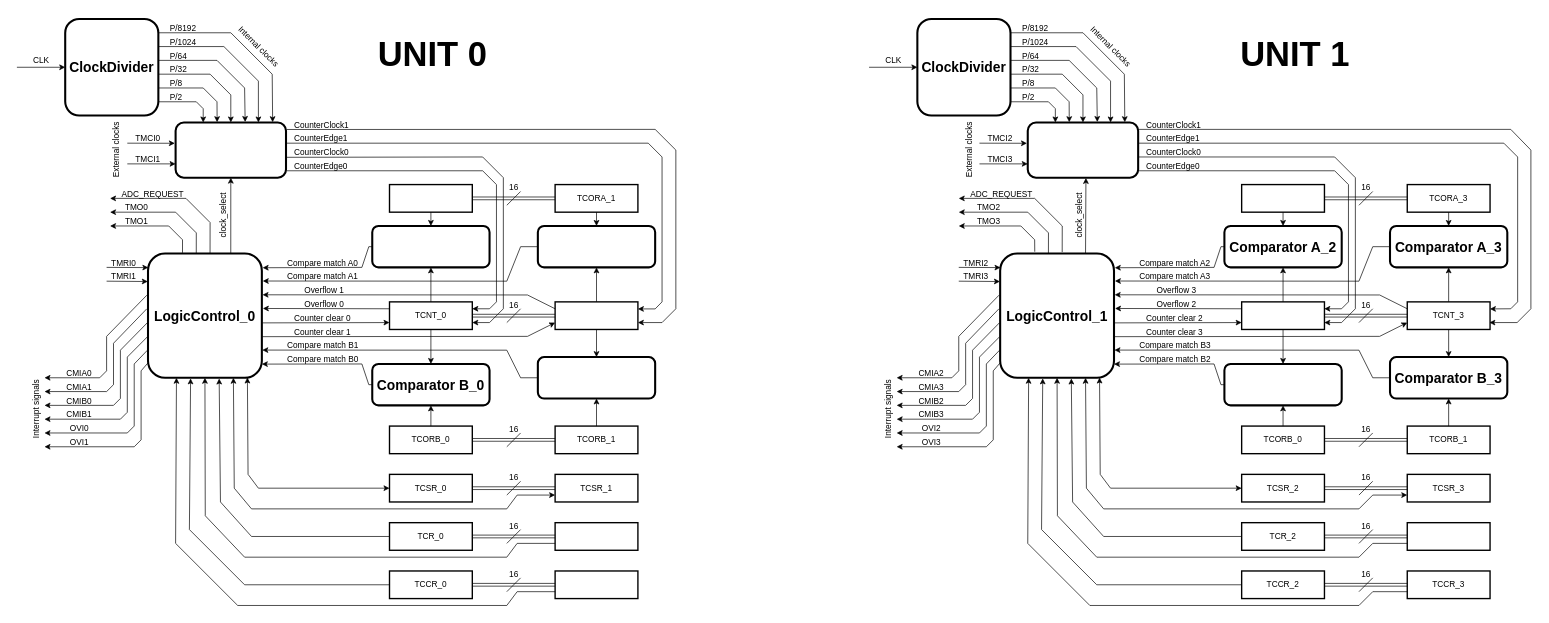
Image size: 1549x623. Some labels were removed from this diagram. Here are the shapes that lost their labels. From the top down, the centre of each, then its label:
At [230,149]: "ClockSelect_0".
At [1082,149]: "ClockSelect_1".
At [430,198]: "TCORA_0".
At [1283,198]: "TCORA_2".
At [430,246]: "Comparator A_0".
At [596,246]: "Comparator A_1".
At [596,315]: "TCNT_1".
At [1283,315]: "TCNT_2".
At [596,377]: "Comparator B_1".
At [1282,384]: "Comparator B_2".
At [596,536]: "TCR_1".
At [1448,536]: "TCR_3".
At [596,584]: "TCCR_1".
